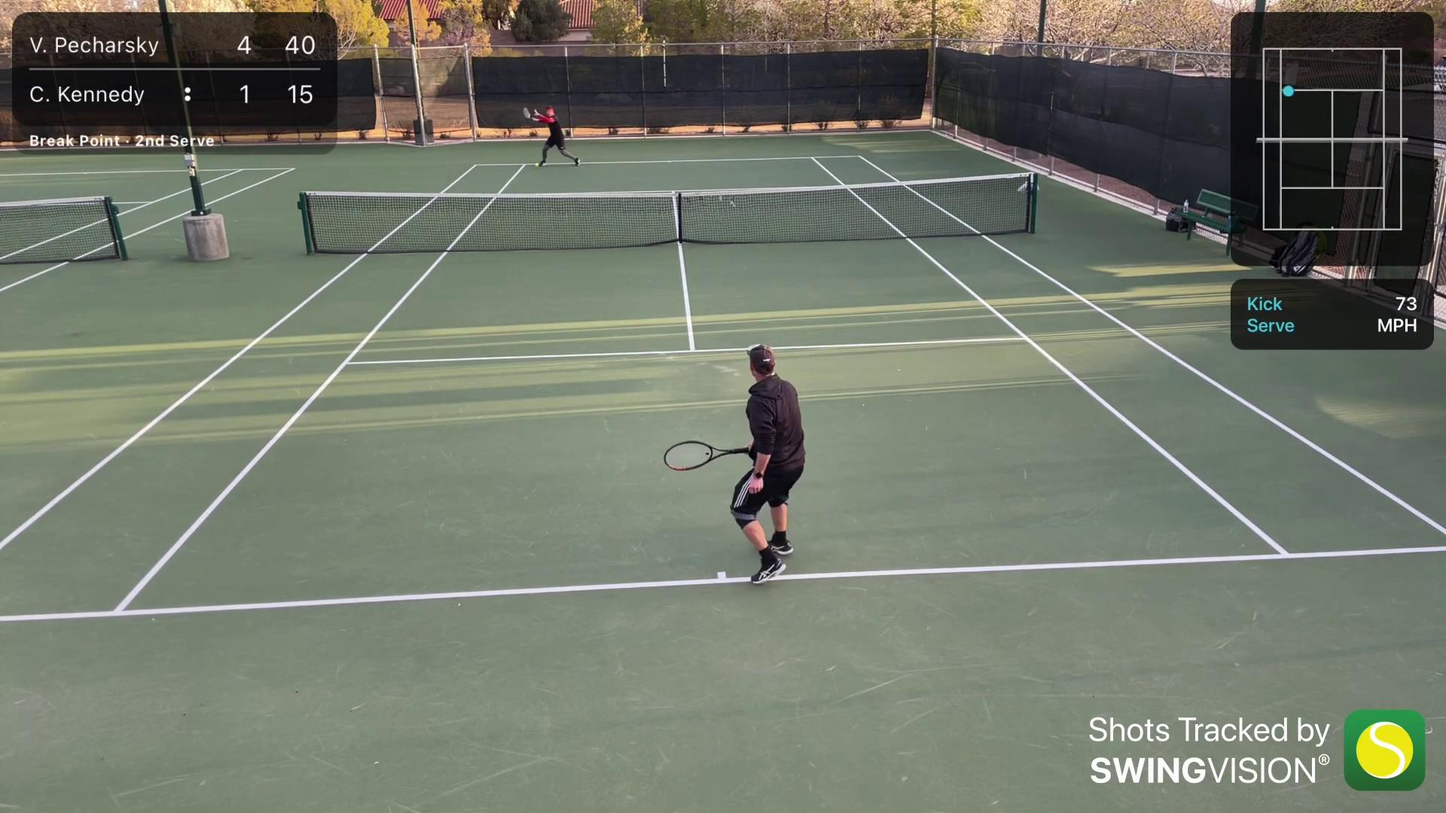ball: (534, 161, 541, 168)
